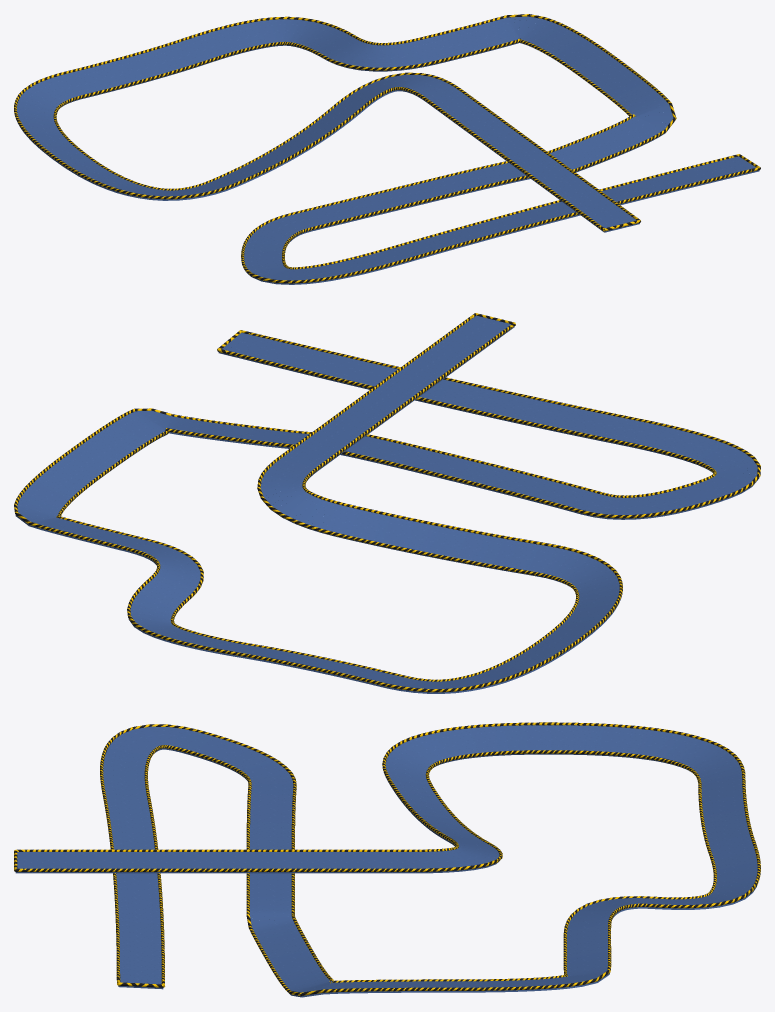
The model's file is Circut2.fbx.
The picture shows the model from 3 angles, top to bottom: view 1: azimuth 30°, elevation 25°; view 2: azimuth 150°, elevation 25°; view 3: azimuth 270°, elevation 25°; orthographic projection. The views are drawn at different scales.
Parts seen in each view (by area): view 1: Cube; view 2: Cube; view 3: Cube.
Boxes of the visible parts, x1,y1,x2,y2 form: Cube: [14, 14, 760, 284]; Cube: [14, 313, 760, 693]; Cube: [14, 722, 760, 997].
Bounding box in the file's own units: 11657 × 997 × 13275.
